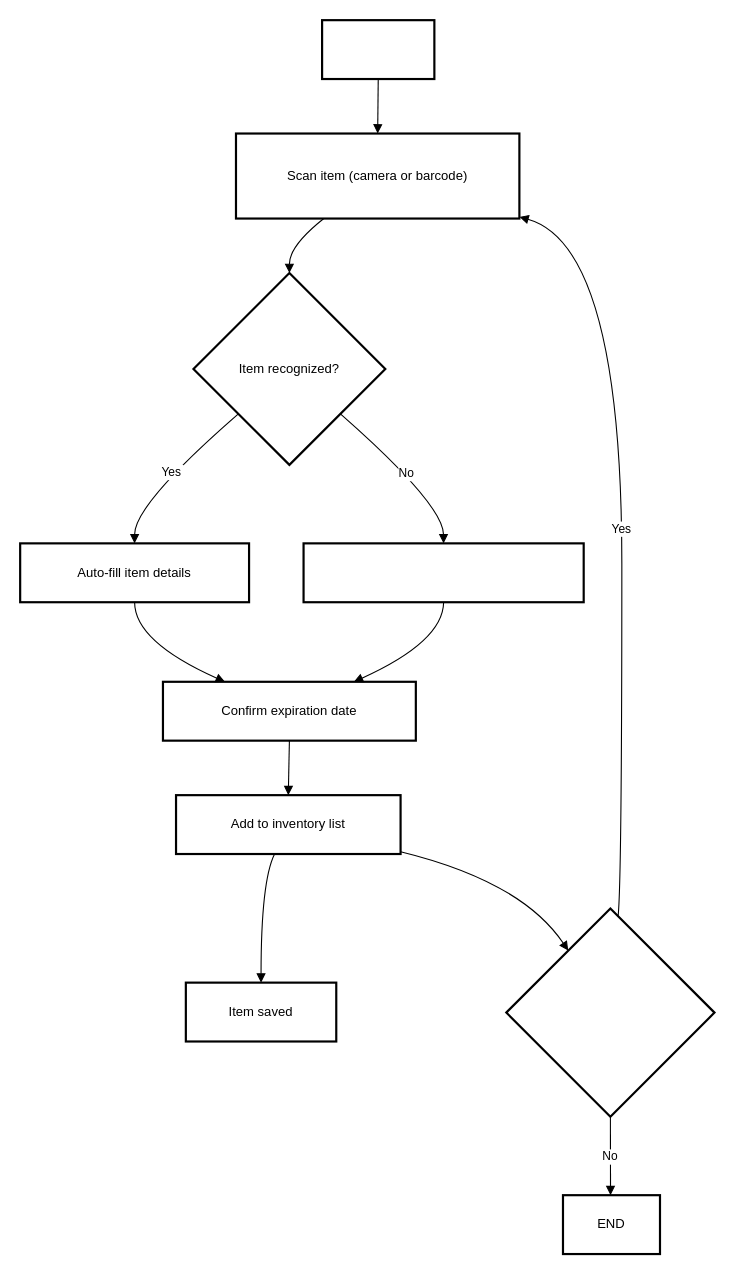
This 734x1273 diagram has some shape labels left out. The shapes that lost their labels are listed below. From the top down, each one's centre as x and y in pixels, then its label:
the point at 377,49: START
the point at 443,572: Manually enter item details
the point at 610,1012: Scan another item?
